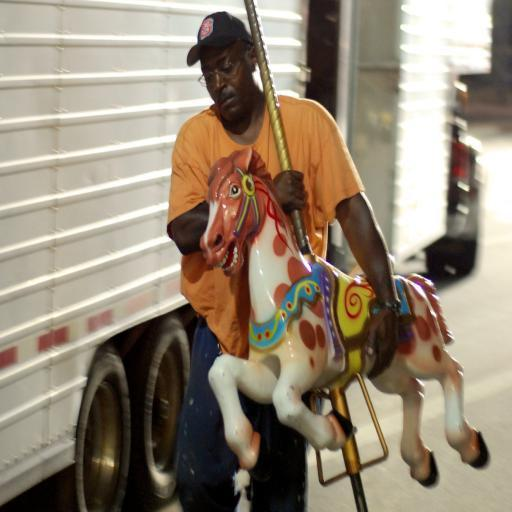horse: (198, 146, 492, 488)
